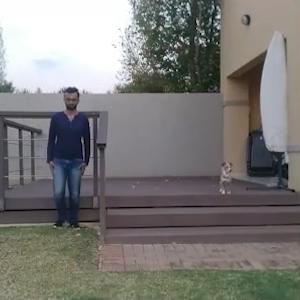follow: (46, 79, 91, 241)
